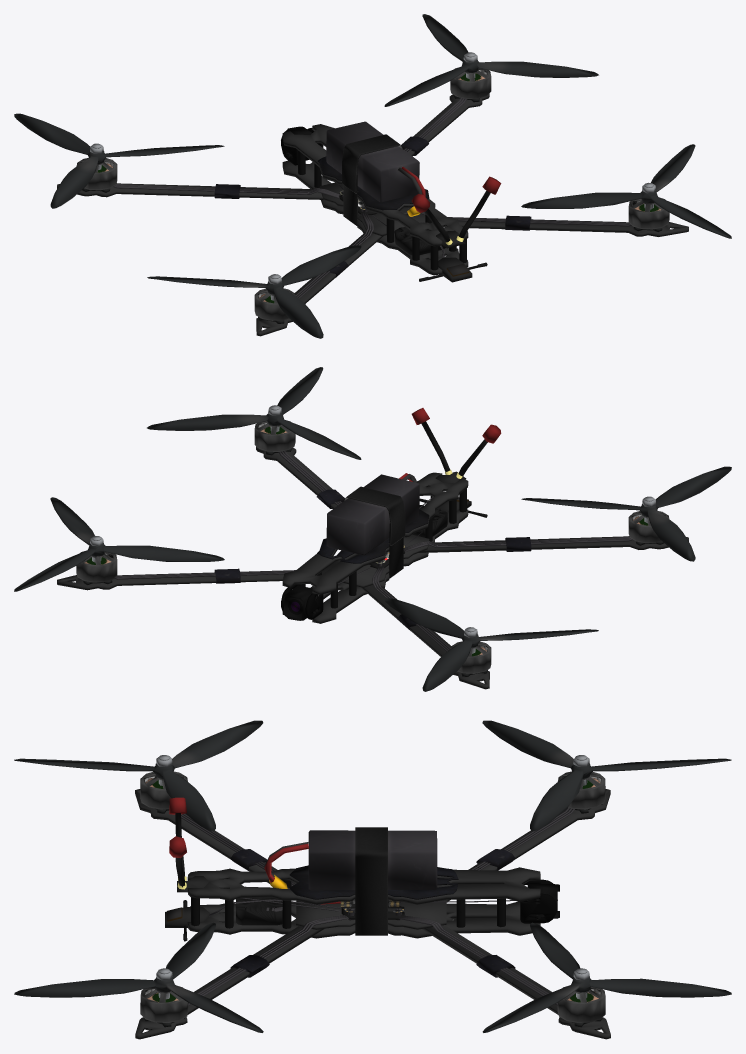
The model's file is drone.glb.
The picture shows the model from 3 angles, top to bottom: view 1: azimuth 30°, elevation 25°; view 2: azimuth 150°, elevation 25°; view 3: azimuth 270°, elevation 25°; orthographic projection. The views are drawn at different scales.
Visible parts, largest first — view 1: Motor_Top_Motor_Top_0, Frame_Top_Frame_0, Electronics_Electronics_0, Motor_Rotor_Rotor_0; view 2: Motor_Top_Motor_Top_0, Frame_Top_Frame_0, Electronics_Electronics_0, Motor_Rotor_Rotor_0; view 3: Frame_Top_Frame_0, Motor_Top_Motor_Top_0, Electronics_Electronics_0, Motor_Rotor_Rotor_0.
Part boxes in pixels (x1,y1,x2,y2): Motor_Top_Motor_Top_0: [14, 14, 731, 338]; Frame_Top_Frame_0: [57, 93, 688, 336]; Electronics_Electronics_0: [113, 98, 631, 298]; Motor_Rotor_Rotor_0: [82, 73, 662, 323]; Motor_Top_Motor_Top_0: [14, 367, 731, 691]; Frame_Top_Frame_0: [57, 446, 688, 689]; Electronics_Electronics_0: [114, 408, 632, 651]; Motor_Rotor_Rotor_0: [83, 426, 664, 676]; Frame_Top_Frame_0: [135, 789, 610, 1039]; Motor_Top_Motor_Top_0: [14, 720, 731, 1032]; Electronics_Electronics_0: [169, 797, 574, 1005]; Motor_Rotor_Rotor_0: [143, 778, 602, 1027].
Bounding box in the file's own units: 0.2859 × 0.0451 × 0.2777.
5 materials, 5 textured.
